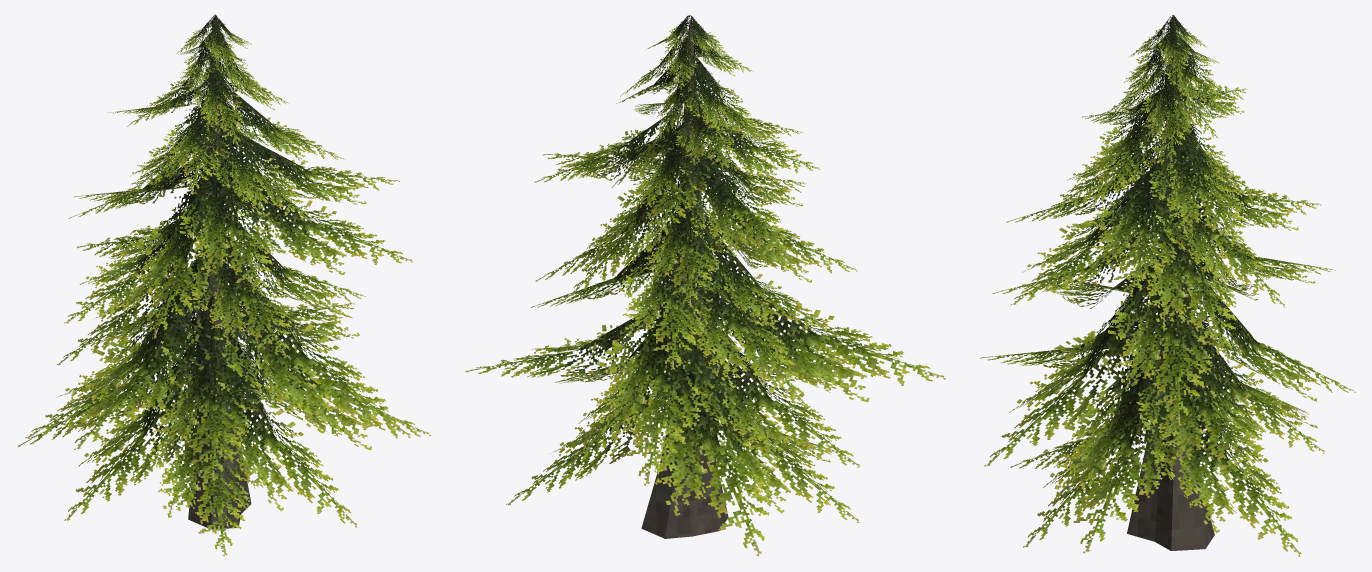
File: pine_tree_-_ps1_low_poly-transformed.glb
3 views of the same model, side by side, from view 1: azimuth 30°, elevation 25°; view 2: azimuth 150°, elevation 25°; view 3: azimuth 270°, elevation 25° (orthographic). The views are drawn at different scales.
Parts seen in each view (by area): view 1: Plane.037_Tree_tex_0; view 2: Plane.037_Tree_tex_0; view 3: Plane.037_Tree_tex_0.
Part boxes in pixels (left/top/right/bottom): Plane.037_Tree_tex_0: left=18, top=14, right=431, bottom=556; Plane.037_Tree_tex_0: left=465, top=15, right=945, bottom=556; Plane.037_Tree_tex_0: left=980, top=15, right=1355, bottom=556.
Bounding box in the file's own units: 9.39 × 11.84 × 7.87.
Materials: 1 (1 with a texture image).
